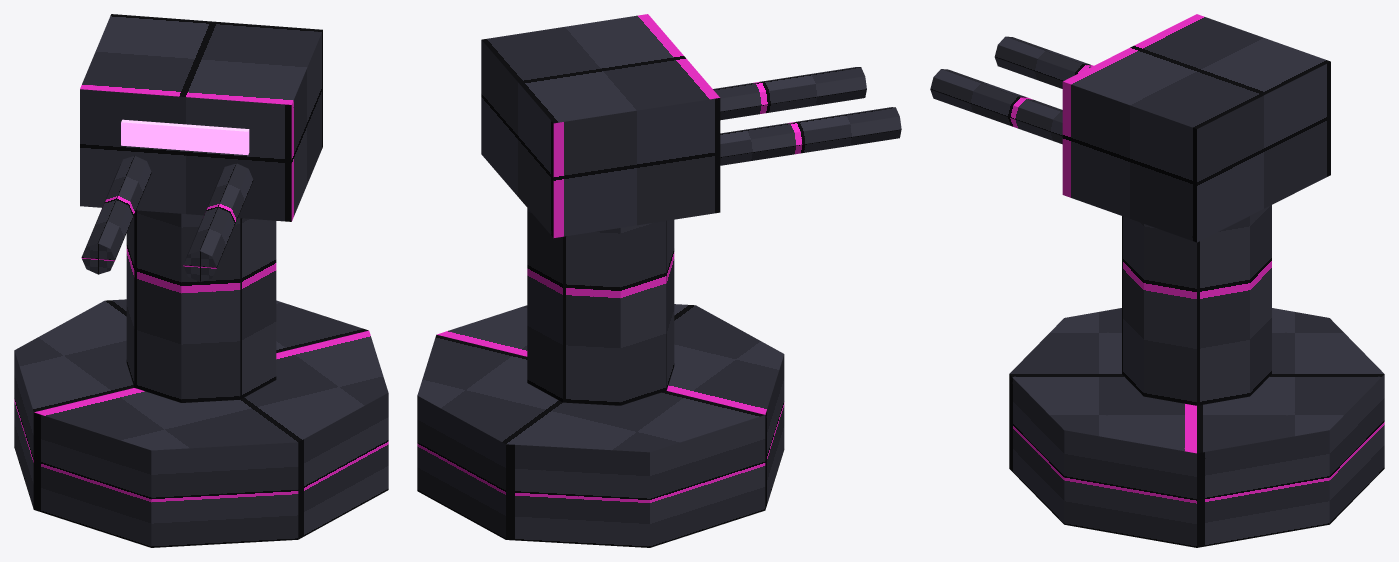
File: turret.glb
The picture shows the model from 3 angles, left to right: view 1: azimuth 30°, elevation 25°; view 2: azimuth 150°, elevation 25°; view 3: azimuth 270°, elevation 25°; orthographic projection. The views are drawn at different scales.
Parts seen in each view (by area): view 1: base, head_shell, column, barrel_1, barrel_0, eye; view 2: base, head_shell, column, barrel_0, barrel_1; view 3: base, head_shell, column, barrel_1, barrel_0.
Boxes of the visible parts, x1,y1,x2,y2 form: base: (14, 299, 388, 547); head_shell: (80, 14, 322, 221); column: (126, 210, 276, 402); barrel_1: (183, 163, 253, 281); barrel_0: (81, 156, 151, 274); eye: (121, 119, 249, 155); base: (417, 304, 784, 547); head_shell: (481, 14, 720, 237); column: (527, 208, 674, 405); barrel_0: (720, 107, 901, 165); barrel_1: (713, 67, 866, 120); base: (1009, 308, 1384, 547); head_shell: (1062, 14, 1330, 242); column: (1122, 205, 1271, 405); barrel_1: (930, 69, 1062, 144); barrel_0: (994, 36, 1093, 88).
Bounding box in the file's own units: 1.02 × 1.05 × 1.09.
Materials: 2 (1 with a texture image).
